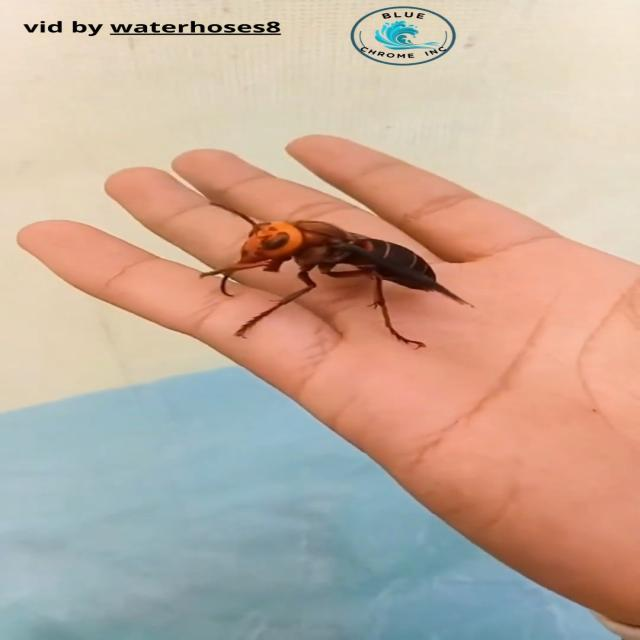Hornets: (194, 201, 480, 352)
